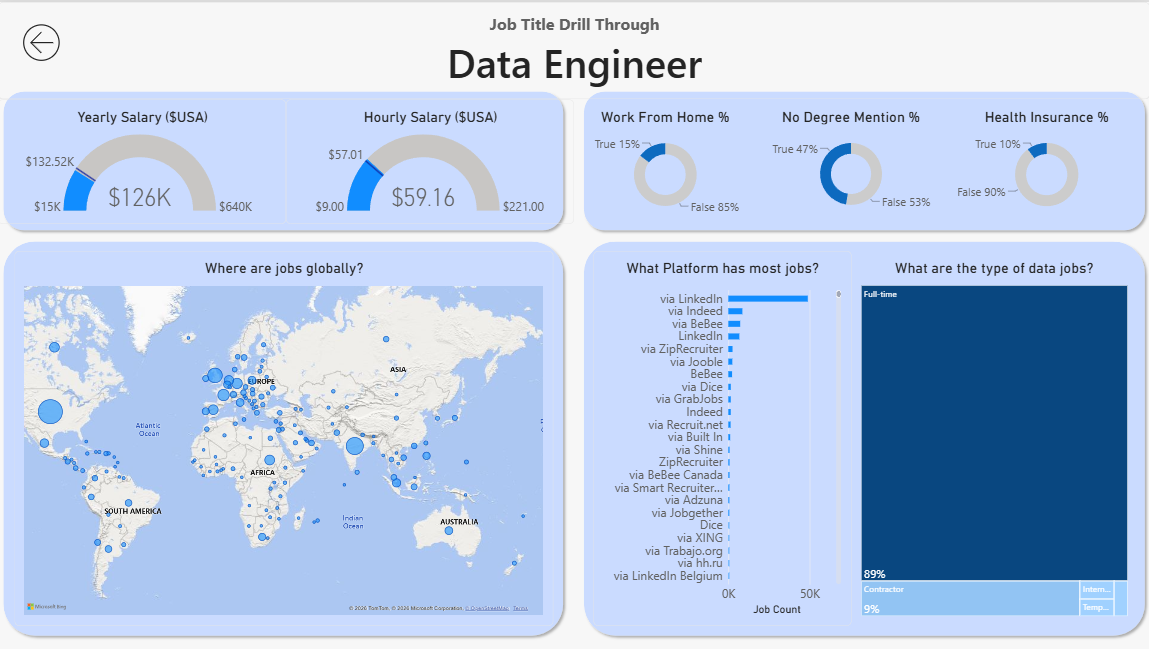

The page's visual inventory and layout, read from the dashboard file:
{"tool":"powerbi","page":{"name":"Job Title Drill Through ","canvas":[1920,1080],"ordinal":1},"visuals":[{"type":"group","id":"g1","title":"Group 1","box":[0,139.9,1920.1,924.6],"z":0},{"type":"cardVisual","fields":{"Data":["Min(job_postings_flat.job_title_short)1"]},"box":[0,0,1920,162.5],"z":1000},{"type":"actionButton","box":[0,0,145,135],"z":2000},{"type":"gauge","title":"Yearly Salary ($USA)","fields":{"MaxValue":["Max(job_postings_flat.salary_year_avg)1"],"MinValue":["Min(job_postings_flat.salary_year_avg)"],"TargetValue":["Avg(job_postings_flat.salary_year_avg)2"],"Y":["Median(job_postings_flat.salary_year_avg)"]},"box":[0,162.5,480,207.5],"z":3000},{"type":"gauge","title":"Hourly Salary ($USA)","fields":{"MaxValue":["Max(job_postings_flat.salary_hour_avg)2"],"MinValue":["Min(job_postings_flat.salary_hour_avg)1"],"TargetValue":["Avg(job_postings_flat.salary_hour_avg)3"],"Y":["Median(job_postings_flat.salary_hour_avg)"]},"box":[480,162.5,480,207.5],"z":4000},{"type":"donutChart","title":"Work From Home %","fields":{"Category":["job_postings_flat.job_work_from_home"],"Y":["CountNonNull(job_postings_flat.job_work_from_home)"]},"box":[960.8,163.5,304.4,209],"z":5000},{"type":"donutChart","title":"No Degree Mention %","fields":{"Category":["job_postings_flat.job_no_degree_mention"],"Y":["CountNonNull(job_postings_flat.job_no_degree_mention)"]},"box":[1265.1,163.5,313.4,206.7],"z":6000},{"type":"donutChart","title":"Health Insurance %","fields":{"Category":["job_postings_flat.job_health_insurance"],"Y":["CountNonNull(job_postings_flat.job_health_insurance)"]},"box":[1578.6,163.5,340.7,209],"z":7000},{"type":"map","title":"Where are jobs globally?","fields":{"Category":["job_postings_flat.job_country"],"Size":["CountNonNull(job_postings_flat.job_title_short)"]},"box":[26.4,415.7,898.2,624.5],"z":8000},{"type":"treemap","title":"What are the type of data jobs?","fields":{"Group":["job_postings_flat.job_schedule_type"],"Values":["CountNonNull(job_postings_flat.job_schedule_type)"]},"box":[1421.3,415.7,476.5,624.5],"z":9000},{"type":"barChart","title":"What Platform has most jobs?","fields":{"Category":["job_postings_flat.job_via"],"Y":["CountNonNull(job_postings_flat.job_via)"]},"box":[991.5,415.7,429.8,624.5],"z":10000},{"type":"shape","title":"Shape4","box":[0,139.9,950.9,249.4],"z":12250,"group":"g1"},{"type":"shape","title":"Shape3","box":[0,389.3,950.9,675.2],"z":12375,"group":"g1"},{"type":"shape","title":"Shape2","box":[967.2,139.9,953,249.4],"z":12500,"group":"g1"},{"type":"shape","title":"Shape1","box":[967.2,389.3,953,675.2],"z":13000,"group":"g1"}]}

Visuals, with their boxes in screenshot pixels (x1, y1, x2, y2), scaled from the page's 1920x1080 canvas onto the 1149x649 screenshot:
"Group 1" group: locate(0, 84, 1148, 640)
cardVisual - Min(job_postings_flat.job_title_short)1: locate(0, 0, 1148, 98)
actionButton: locate(0, 0, 87, 81)
"Yearly Salary ($USA)" gauge: locate(0, 98, 287, 222)
"Hourly Salary ($USA)" gauge: locate(287, 98, 574, 222)
"Work From Home %" donutChart: locate(575, 98, 757, 224)
"No Degree Mention %" donutChart: locate(757, 98, 945, 222)
"Health Insurance %" donutChart: locate(945, 98, 1148, 224)
"Where are jobs globally?" map: locate(16, 250, 553, 625)
"What are the type of data jobs?" treemap: locate(851, 250, 1136, 625)
"What Platform has most jobs?" barChart: locate(593, 250, 851, 625)
"Shape4" shape: locate(0, 84, 569, 234)
"Shape3" shape: locate(0, 234, 569, 640)
"Shape2" shape: locate(579, 84, 1148, 234)
"Shape1" shape: locate(579, 234, 1148, 640)
